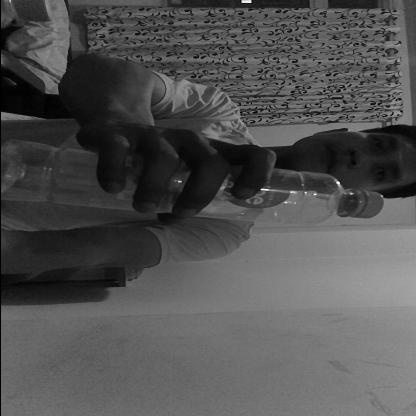plastic_bottles: (0, 140, 388, 226)
